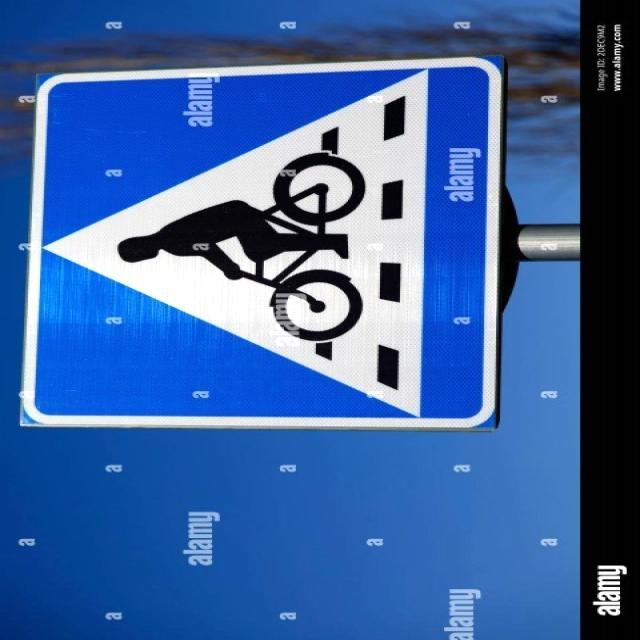Traffic sign: (14, 51, 507, 437)
